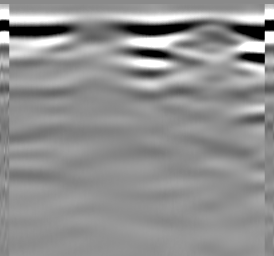pipe: (60, 19, 135, 46), (178, 21, 251, 48)
